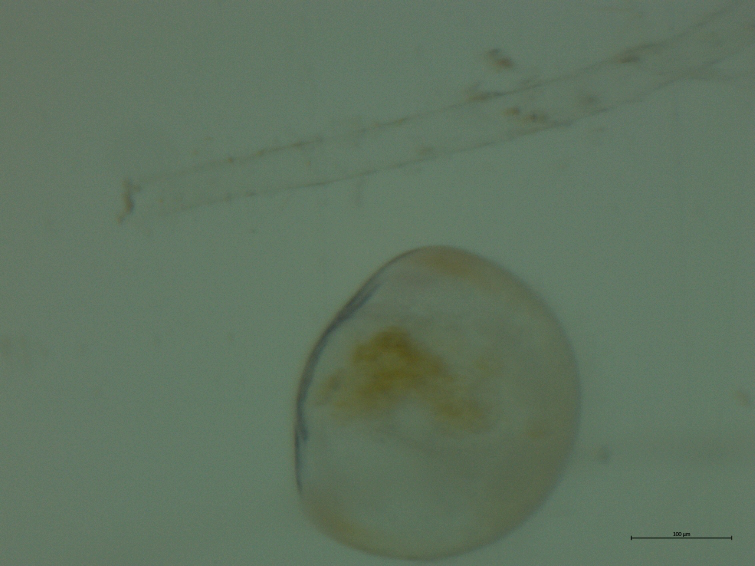oyster: (279, 239, 589, 566)
